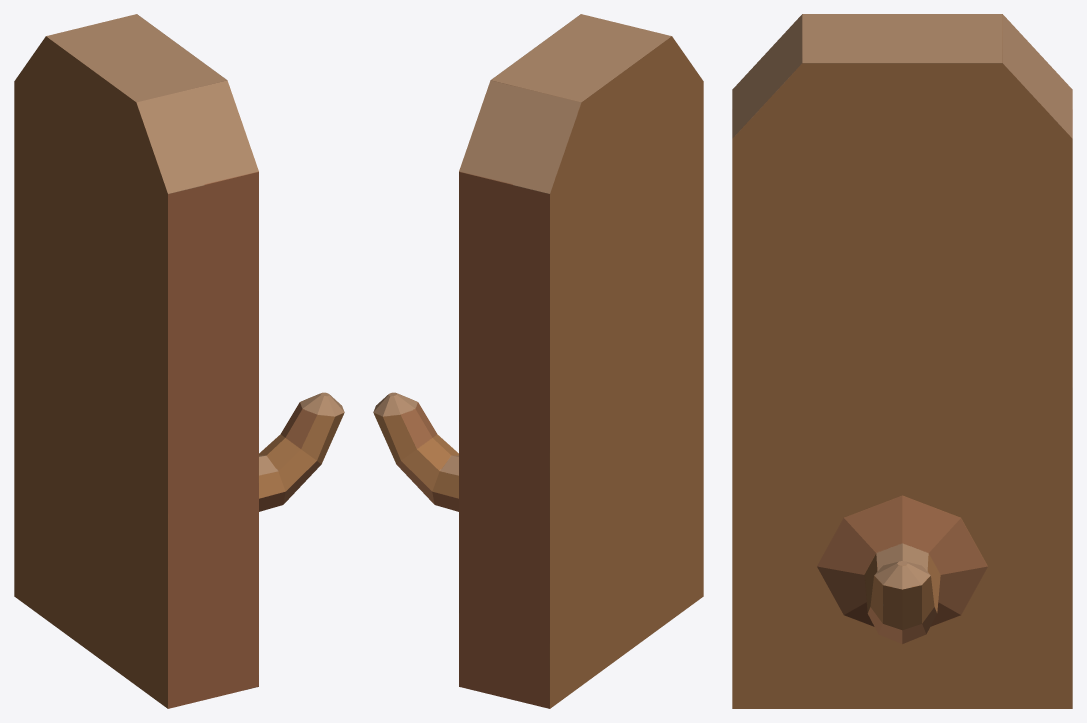
File: GantunganKunci.fbx
3 views of the same model, side by side, from view 1: azimuth 30°, elevation 25°; view 2: azimuth 150°, elevation 25°; view 3: azimuth 270°, elevation 25° (orthographic). The views are drawn at different scales.
Parts seen in each view (by area): view 1: Cube; view 2: Cube; view 3: Cube.
Part boxes in pixels (x1,y1,x2,y2): Cube: [14, 14, 344, 708]; Cube: [373, 14, 703, 708]; Cube: [732, 14, 1072, 708].
Size of the model in its own units: 33.58 by 74.61 by 35.64.
